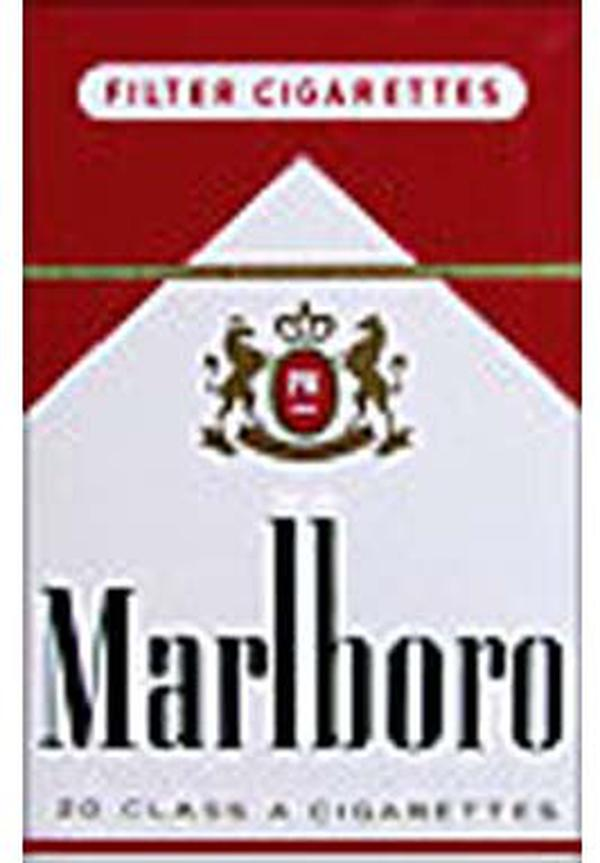marlboro_red: (27, 2, 579, 857)
